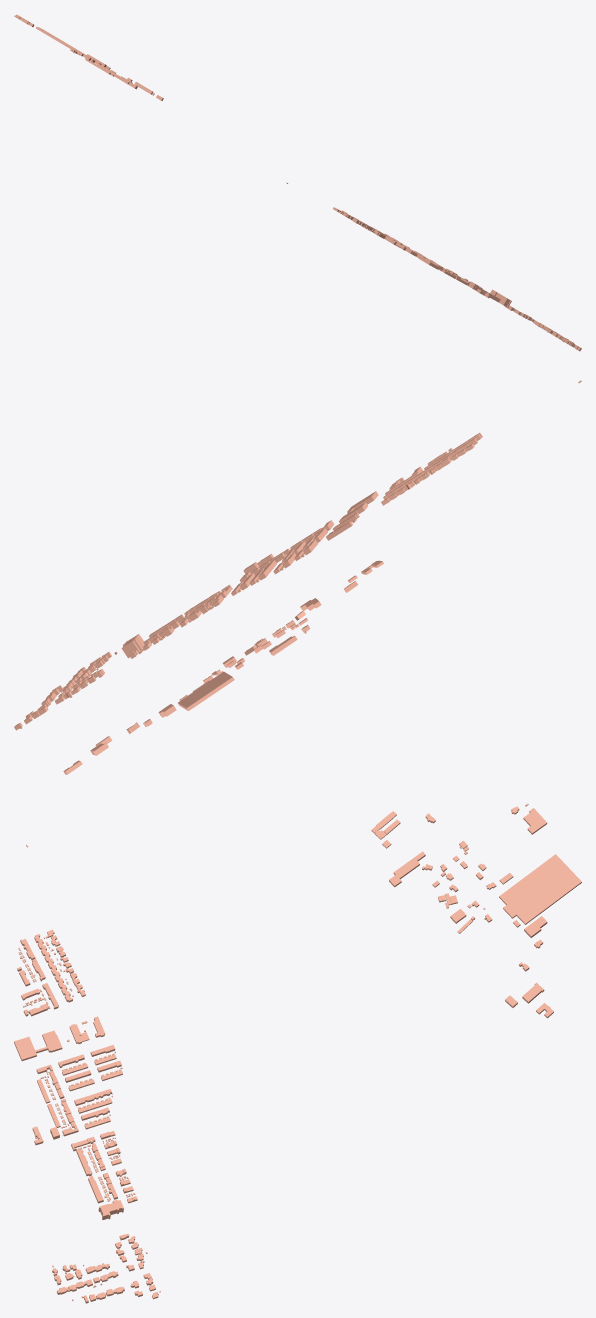
3 views of the same model, one above another, from view 1: azimuth 30°, elevation 25°; view 2: azimuth 150°, elevation 25°; view 3: azimuth 270°, elevation 25° (orthographic). The views are drawn at different scales.
Bounding box in the file's own units: 1048 × 757 × 1278.
